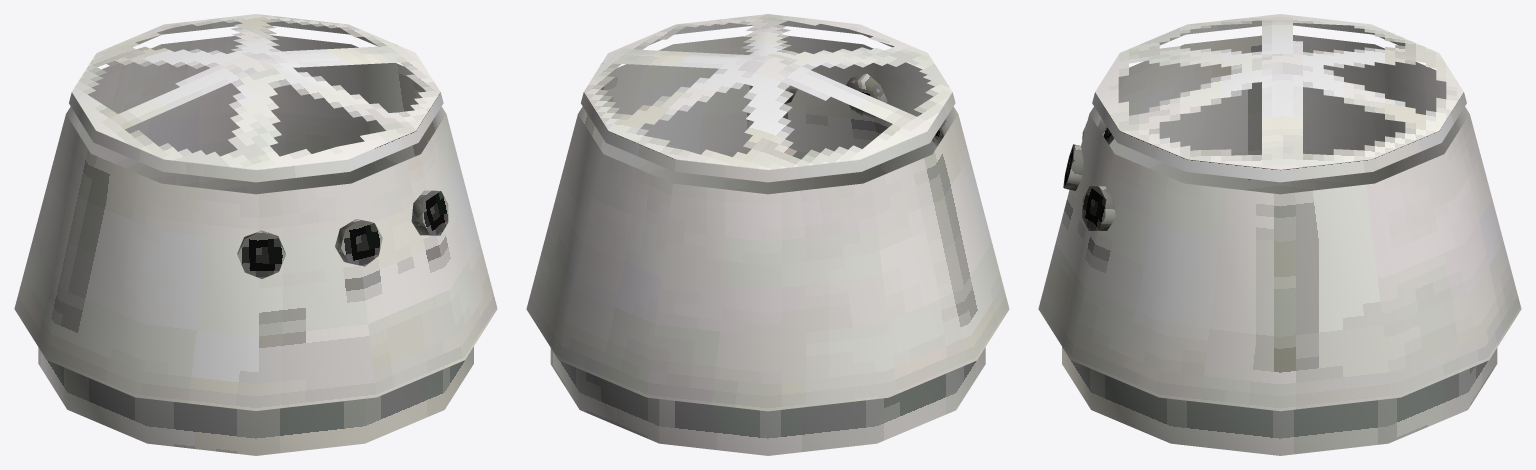
The model's file is poi_r5_head_l2.fbx.
3 renders of one model, left to right at view 1: azimuth 30°, elevation 25°; view 2: azimuth 150°, elevation 25°; view 3: azimuth 270°, elevation 25°, orthographic.
Parts seen in each view (by area): view 1: mesh_node; view 2: mesh_node; view 3: mesh_node.
Part boxes in pixels (box(x1,y1,x2,y2)): mesh_node: box(14, 14, 497, 455); mesh_node: box(526, 14, 1009, 455); mesh_node: box(1038, 14, 1521, 455).
Size of the model in its own units: 0.432 by 0.2991 by 0.432.
